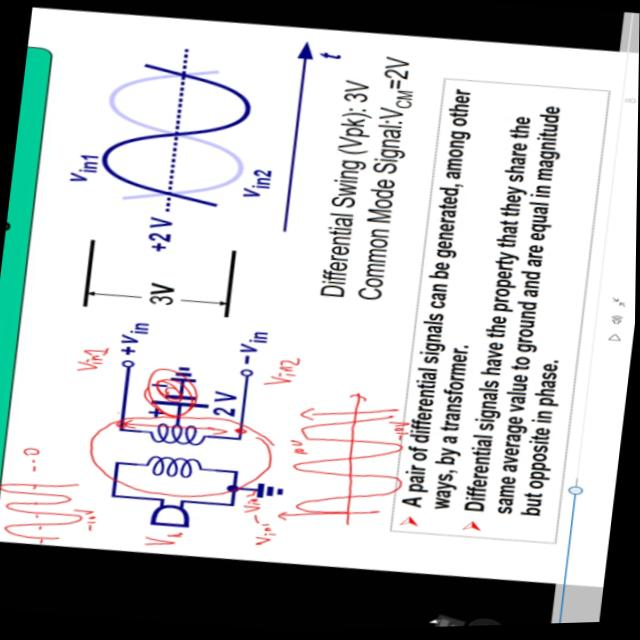panseo: (215, 333, 430, 573), (0, 429, 124, 553)
